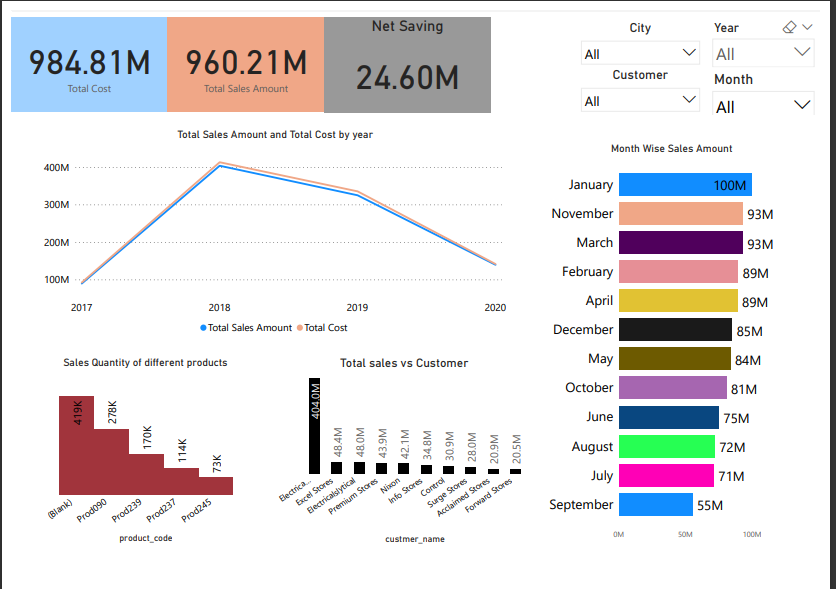

This screenshot's page, from the dashboard's own definition file:
{"tool":"powerbi","page":{"name":"Page 1","canvas":[1300,900],"ordinal":0},"visuals":[{"type":"card","fields":{"Values":["Basic measure.Measure"]},"box":[0,0,250.7,151.5],"z":0},{"type":"clusteredBarChart","title":"Month Wise Sales Amount","fields":{"Y":["Basic measure.Total Cost"],"Category":["sales date.month_name"]},"box":[851.3,200.2,420.2,649.3],"z":1},{"type":"slicer","fields":{"Values":["sales date.year"]},"box":[1116.4,0,184,81.2],"z":2},{"type":"slicer","fields":{"Values":["sales date.month_name"]},"box":[1116.4,81.2,184,75.8],"z":3},{"type":"card","fields":{"Values":["Basic measure.Total Sales Amount"]},"box":[250.7,0,252.5,151.5],"z":4},{"type":"lineChart","fields":{"Category":["sales date.year"],"Y":["Basic measure.Total Sales Amount","Basic measure.Total Cost"]},"box":[46.9,178.6,753.9,340.9],"z":5},{"type":"columnChart","title":"Total sales vs Customer","fields":{"Category":["sales customers.custmer_name"],"Y":["Basic measure.Total Sales Amount"]},"box":[423.8,544.7,414.8,306.6],"z":6},{"type":"clusteredColumnChart","title":"Sales Quantity of different products","fields":{"Y":["Sum(sales transactions.sales_qty)"],"Category":["sales products.product_code"]},"box":[46.9,544.7,337.3,304.8],"z":7},{"type":"slicer","title":"City","fields":{"Values":["sales markets.markets_name"]},"box":[905.4,5.4,211,75.8],"z":8},{"type":"card","title":"Net Saving","fields":{"Values":["sales transactions.sales_amount minus cost_price"]},"box":[503.2,0,266.9,153.3],"z":9},{"type":"slicer","title":"Customer","fields":{"Values":["sales customers.custmer_name"]},"box":[905.4,81.2,211,75.8],"z":10}]}

Visuals, with their boxes in screenshot pixels (x1, y1, x2, y2), scaled from the page's 1300x900 canvas onto the 836x589 screenshot:
card - Basic measure.Measure: (left=0, top=0, right=161, bottom=99)
"Month Wise Sales Amount" clusteredBarChart: (left=547, top=131, right=818, bottom=556)
slicer - sales date.year: (left=718, top=0, right=835, bottom=53)
slicer - sales date.month_name: (left=718, top=53, right=835, bottom=103)
card - Basic measure.Total Sales Amount: (left=161, top=0, right=324, bottom=99)
lineChart - sales date.year x Basic measure.Total Sales Amount: (left=30, top=117, right=515, bottom=340)
"Total sales vs Customer" columnChart: (left=273, top=356, right=539, bottom=557)
"Sales Quantity of different products" clusteredColumnChart: (left=30, top=356, right=247, bottom=556)
"City" slicer: (left=582, top=4, right=718, bottom=53)
"Net Saving" card: (left=324, top=0, right=495, bottom=100)
"Customer" slicer: (left=582, top=53, right=718, bottom=103)
